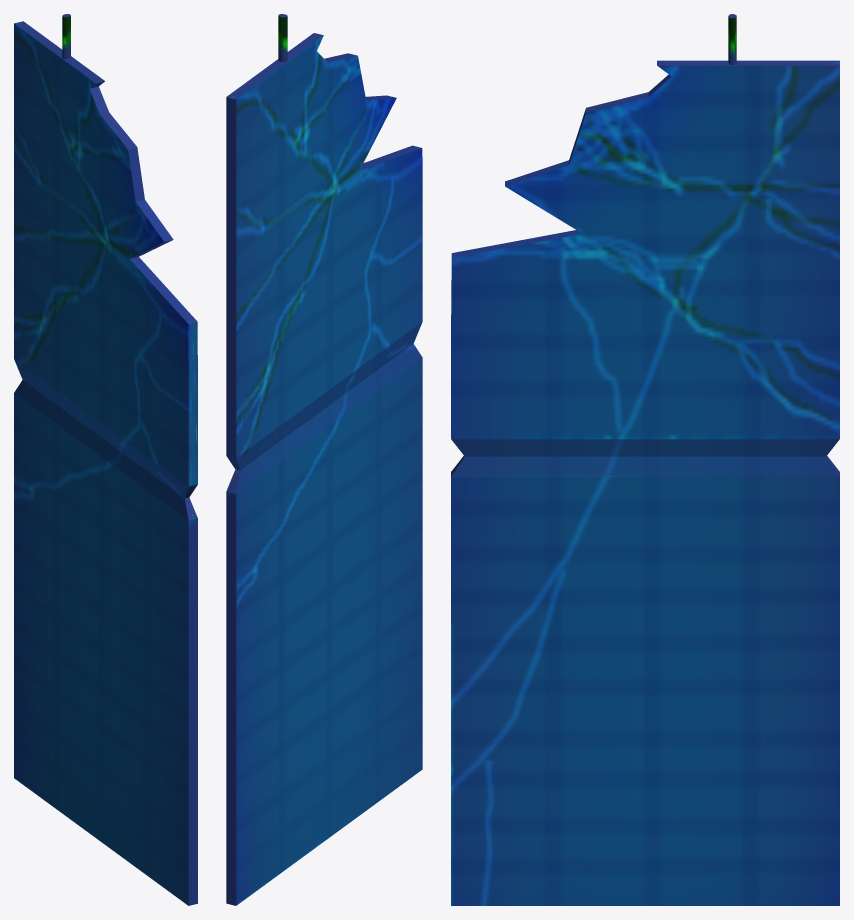
The model's file is debris2.fbx.
3 views of the same model, side by side, from view 1: azimuth 30°, elevation 25°; view 2: azimuth 150°, elevation 25°; view 3: azimuth 270°, elevation 25° (orthographic). The views are drawn at different scales.
Visible parts, largest first — view 1: Cube; view 2: Cube; view 3: Cube.
Boxes of the visible parts, x1=… form: Cube: x1=14, y1=14, x2=197, y2=905; Cube: x1=226, y1=14, x2=422, y2=905; Cube: x1=451, y1=14, x2=839, y2=905.
Bounding box in the file's own units: 12.09 × 985 × 391.
